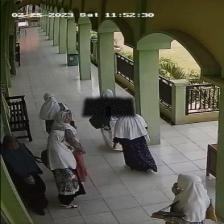Cadar_Niqab: (82, 88, 135, 116)
